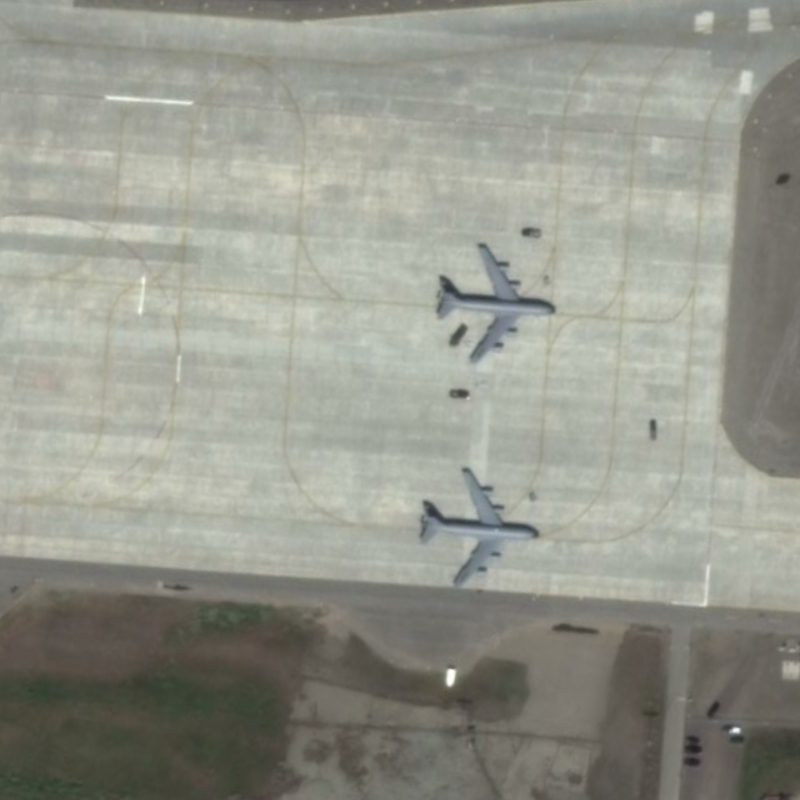A14: (426, 236, 560, 366), (410, 461, 545, 589)
